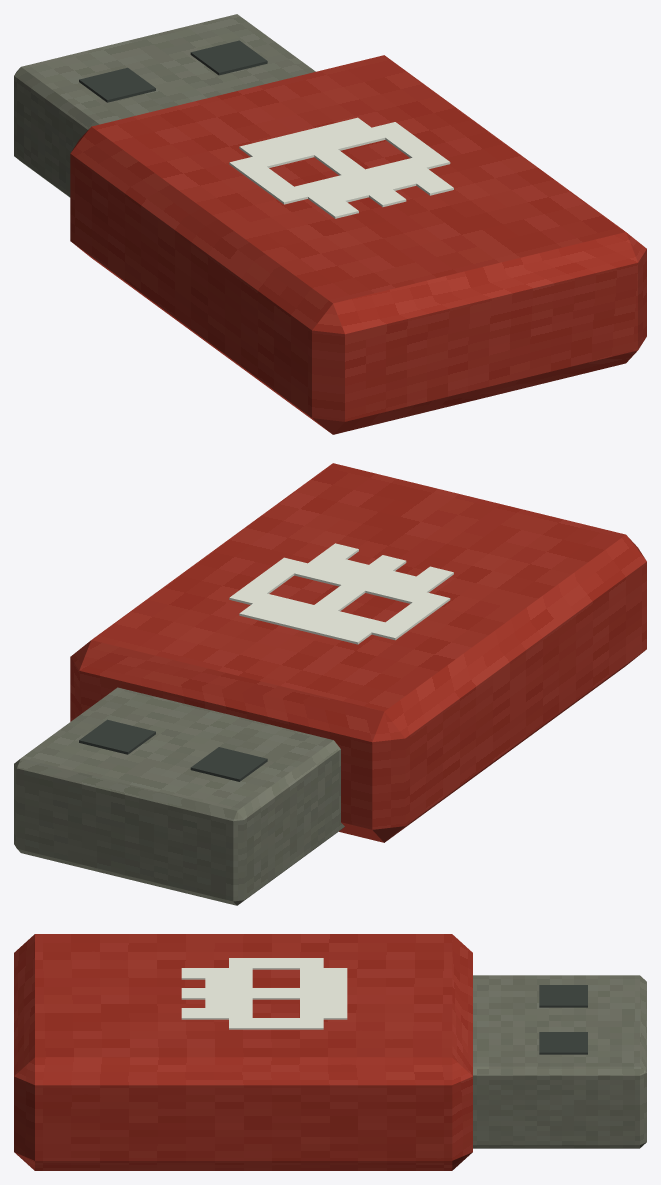
Rendered from retro_pendrive_coral_v4.glb.
3 views of the same model, one above another, from view 1: azimuth 30°, elevation 25°; view 2: azimuth 150°, elevation 25°; view 3: azimuth 270°, elevation 25° (orthographic). The views are drawn at different scales.
Parts seen in each view (by area): view 1: Corpo coral, Conector.001, Furo USB.003, Furo USB.002; view 2: Corpo coral, Conector.001, Furo USB.002, Furo USB.003; view 3: Corpo coral, Conector.001, Furo USB.002, Furo USB.003.
Part boxes in pixels (x1,y1,x2,y2): Corpo coral: [70, 55, 646, 434]; Conector.001: [14, 14, 315, 197]; Furo USB.003: [190, 40, 267, 75]; Furo USB.002: [79, 67, 155, 102]; Corpo coral: [70, 463, 646, 842]; Conector.001: [14, 687, 344, 905]; Furo USB.002: [190, 747, 267, 781]; Furo USB.003: [79, 719, 155, 754]; Corpo coral: [14, 934, 472, 1170]; Conector.001: [473, 975, 646, 1148]; Furo USB.002: [539, 985, 587, 1007]; Furo USB.003: [539, 1032, 587, 1054].
Bounding box in the file's own units: 0.048 × 0.0185 × 0.091.
4 materials, 2 textured.
